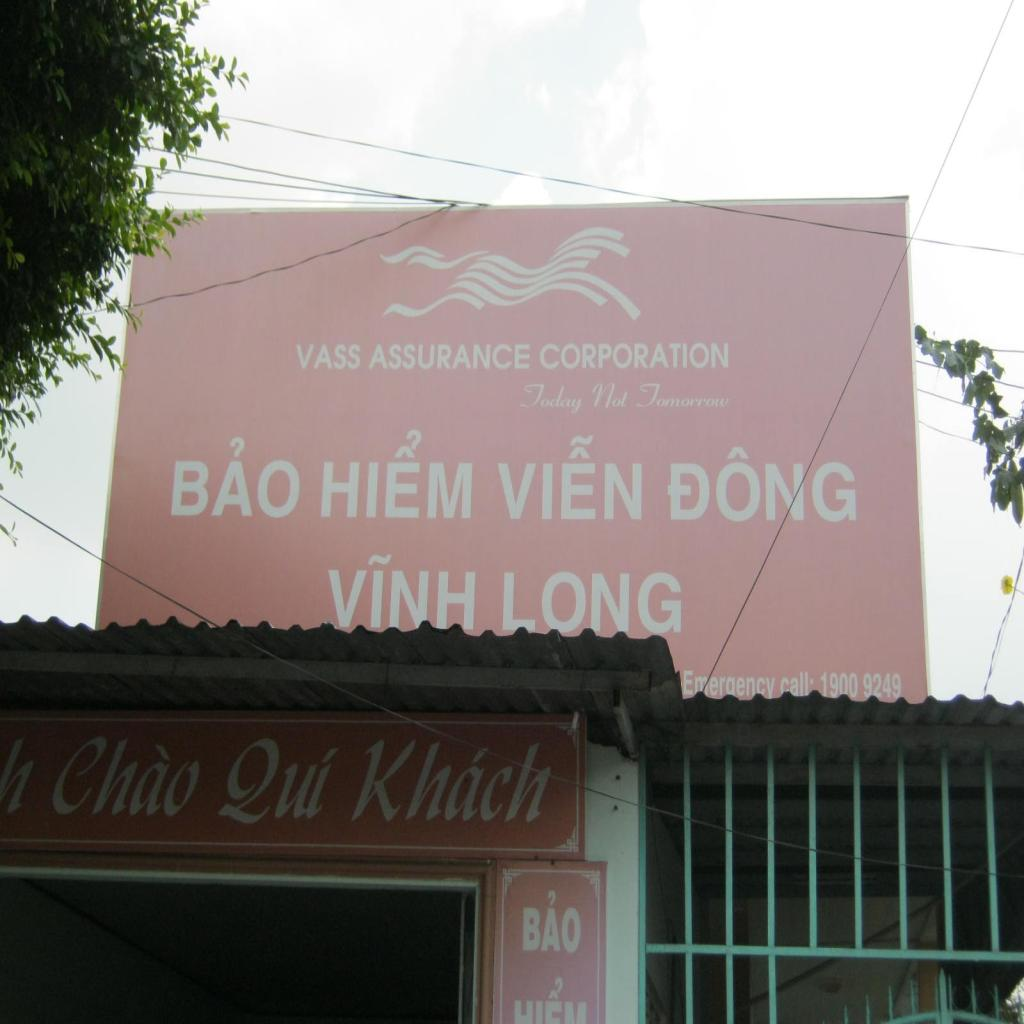text: (340, 739, 566, 834), (312, 426, 482, 526), (663, 445, 863, 530), (491, 429, 648, 528), (163, 427, 309, 530), (42, 736, 208, 824), (318, 550, 481, 638), (210, 731, 348, 831), (497, 567, 688, 639), (536, 338, 732, 375), (368, 342, 533, 376), (0, 736, 48, 824), (680, 664, 780, 706), (632, 382, 738, 416), (514, 382, 587, 424), (293, 334, 364, 374), (817, 670, 904, 701), (588, 381, 634, 415), (779, 668, 817, 698)
